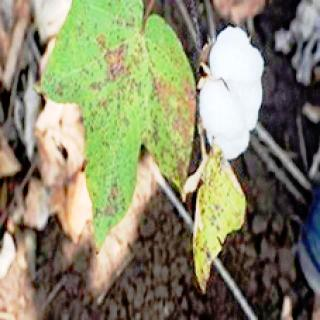leaf spot: (40, 5, 195, 256), (199, 154, 249, 292)
